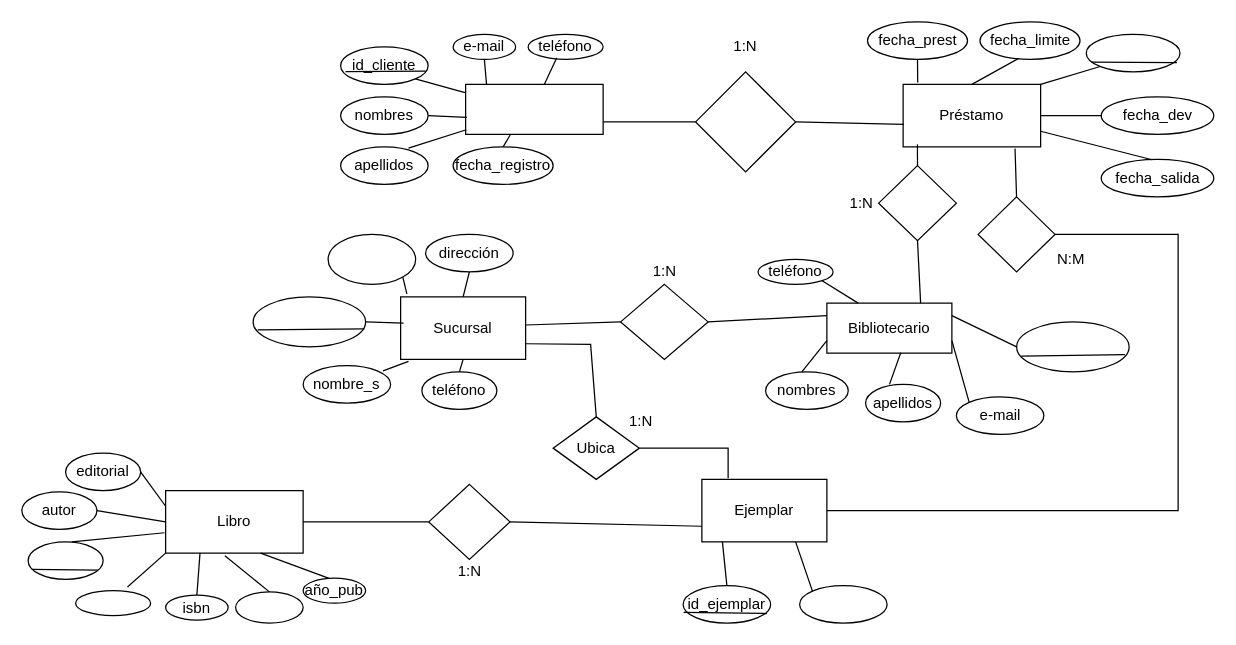
This 1236x645 diagram has some shape labels left out. Each missing label, with the centre of its shape:
"ciudad" goes at point 371,258.
"Cliente" goes at point 533,108.
"Emplea" goes at point 663,321.
"estado" goes at point 842,603.
"género" goes at point 112,602.
"id_bibliotecario" goes at point 1072,346.
"id_libro" goes at point 65,560.
"id_prestamo" goes at point 1132,52.
"id_sucursal" goes at point 309,321.
"Incluye" goes at point 1016,234.
"Realiza" goes at point 745,121.
"Registra" goes at point 916,202.
"Tiene" goes at point 469,521.
"título" goes at point 268,607.
